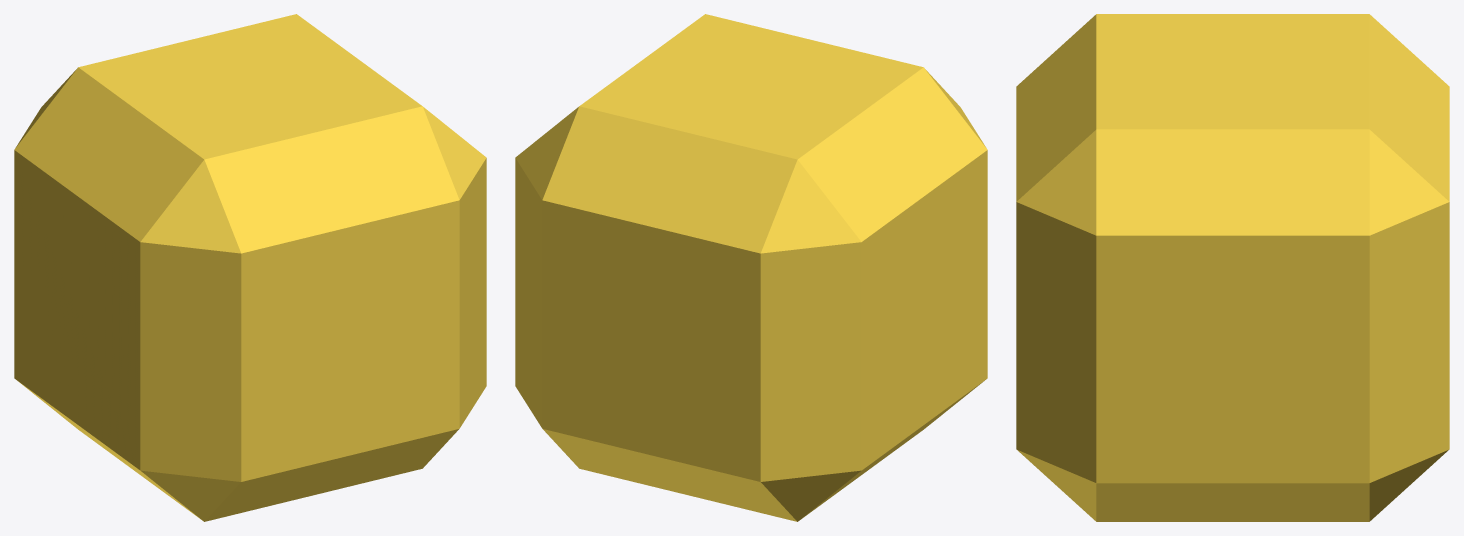
Rendered from FichaRey.obj.
3 renders of one model, left to right at view 1: azimuth 30°, elevation 25°; view 2: azimuth 150°, elevation 25°; view 3: azimuth 270°, elevation 25°, orthographic. The views are drawn at different scales.
Parts seen in each view (by area): view 1: FichaRey_Cube.001; view 2: FichaRey_Cube.001; view 3: FichaRey_Cube.001.
Part boxes in pixels (x1,y1,x2,y2): FichaRey_Cube.001: (14, 14, 486, 521); FichaRey_Cube.001: (515, 14, 987, 521); FichaRey_Cube.001: (1016, 14, 1449, 521).
Bounding box in the file's own units: 1.74 × 1.74 × 1.74.
Materials: 1 (1 with a texture image).
